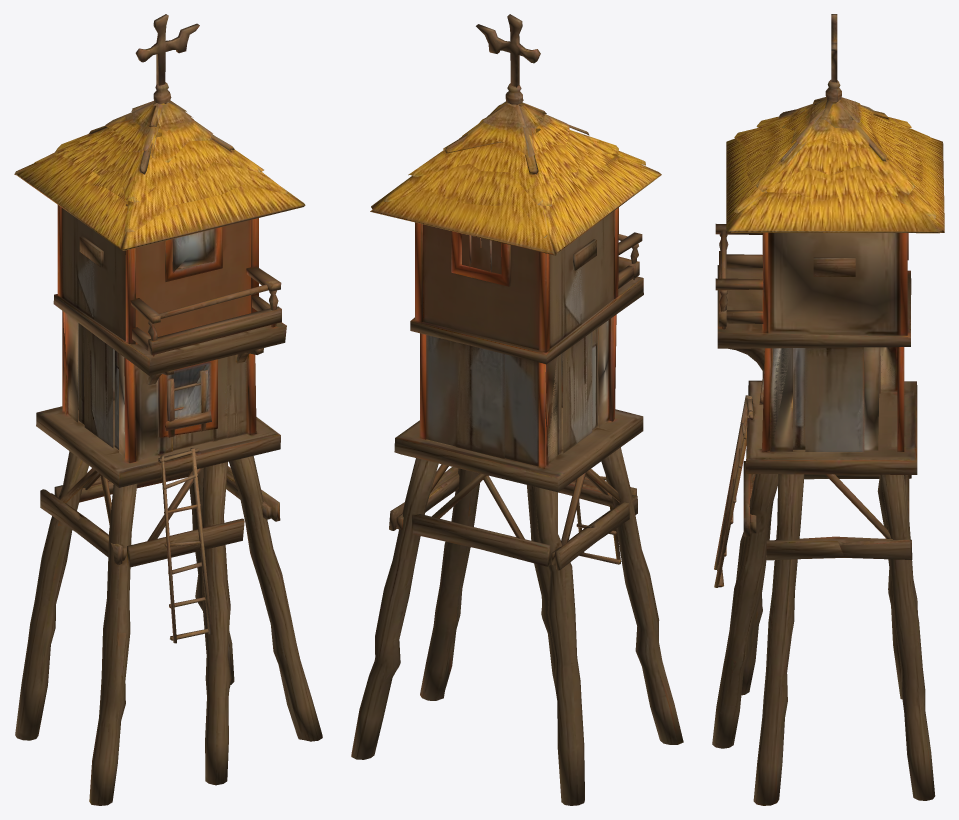
File: watchtower.glb
The picture shows the model from 3 angles, left to right: view 1: azimuth 30°, elevation 25°; view 2: azimuth 150°, elevation 25°; view 3: azimuth 270°, elevation 25°; orthographic projection.
Bounding box in the file's own units: 0.3364 × 0.9521 × 0.2745.
Materials: 1 (1 with a texture image).
